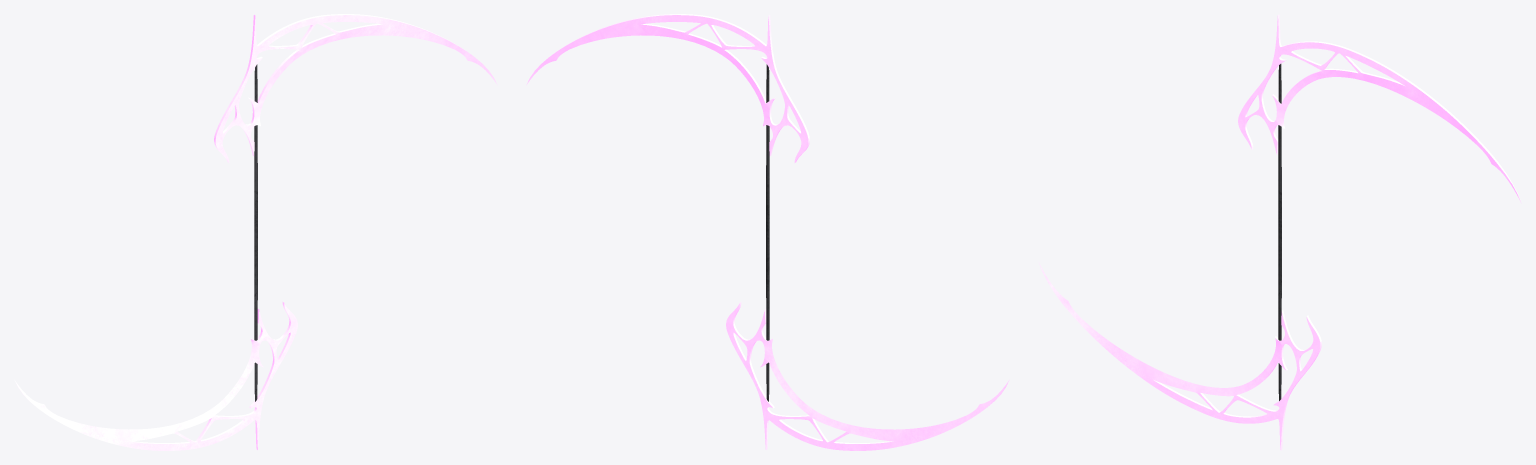
The model's file is w_scythe__double-scythe.glb.
3 renders of one model, left to right at view 1: azimuth 30°, elevation 25°; view 2: azimuth 150°, elevation 25°; view 3: azimuth 330°, elevation 25°, orthographic.
Parts seen in each view (by area): view 1: BezierCircle.003; view 2: BezierCircle.003; view 3: BezierCircle.003.
Boxes of the visible parts, x1=… form: BezierCircle.003: x1=14, y1=14, x2=497, y2=450; BezierCircle.003: x1=526, y1=14, x2=1009, y2=450; BezierCircle.003: x1=1038, y1=14, x2=1521, y2=450.
Bounding box in the file's own units: 1088 × 936 × 6.01.
2 materials, 2 textured.
